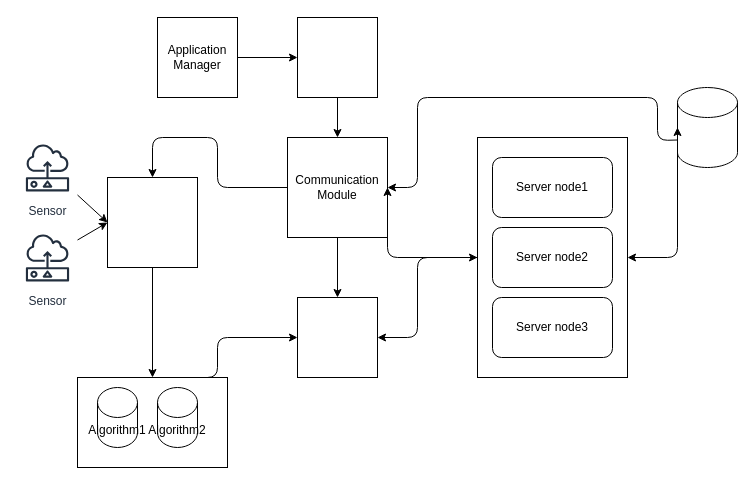
Image size: 755x485. Some labels were removed from this diagram. Each missing label, with the centre of its shape:
Database: point (707, 127)
Deployment component: point (337, 337)
Scheduler: point (337, 57)
Sensor manager: point (152, 222)
